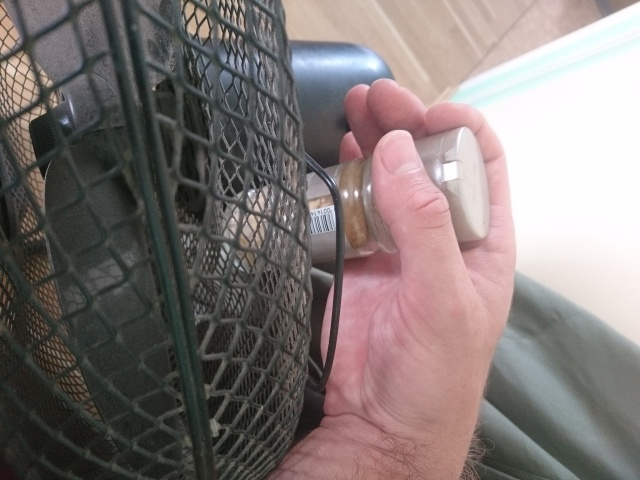Kotanyi Garlic Granules 70g: (213, 123, 494, 277)
